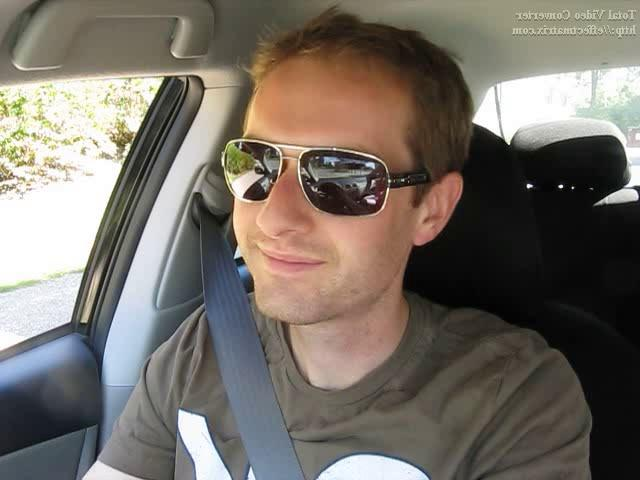no_yawn: (241, 239, 342, 288)
